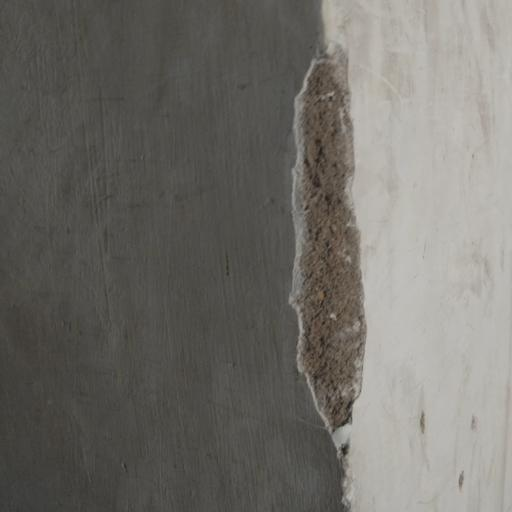spalling: (278, 38, 380, 459)
